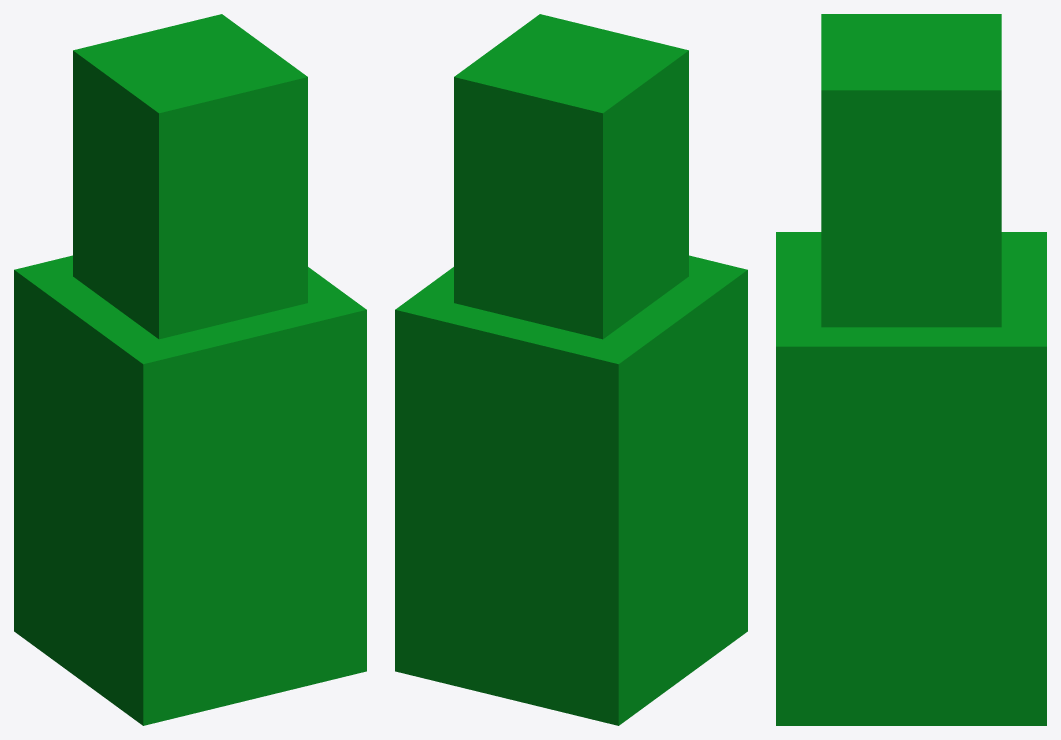
File: trees_6_dark.fbx
3 renders of one model, left to right at view 1: azimuth 30°, elevation 25°; view 2: azimuth 150°, elevation 25°; view 3: azimuth 270°, elevation 25°, orthographic. The views are drawn at different scales.
Parts seen in each view (by area): view 1: Cube.059; view 2: Cube.059; view 3: Cube.059.
Part boxes in pixels (bbox=[...]): Cube.059: bbox=[14, 14, 366, 725]; Cube.059: bbox=[395, 14, 747, 725]; Cube.059: bbox=[776, 14, 1046, 725].
Bounding box in the file's own units: 517 × 1300 × 517.
Materials: 1 (1 with a texture image).
